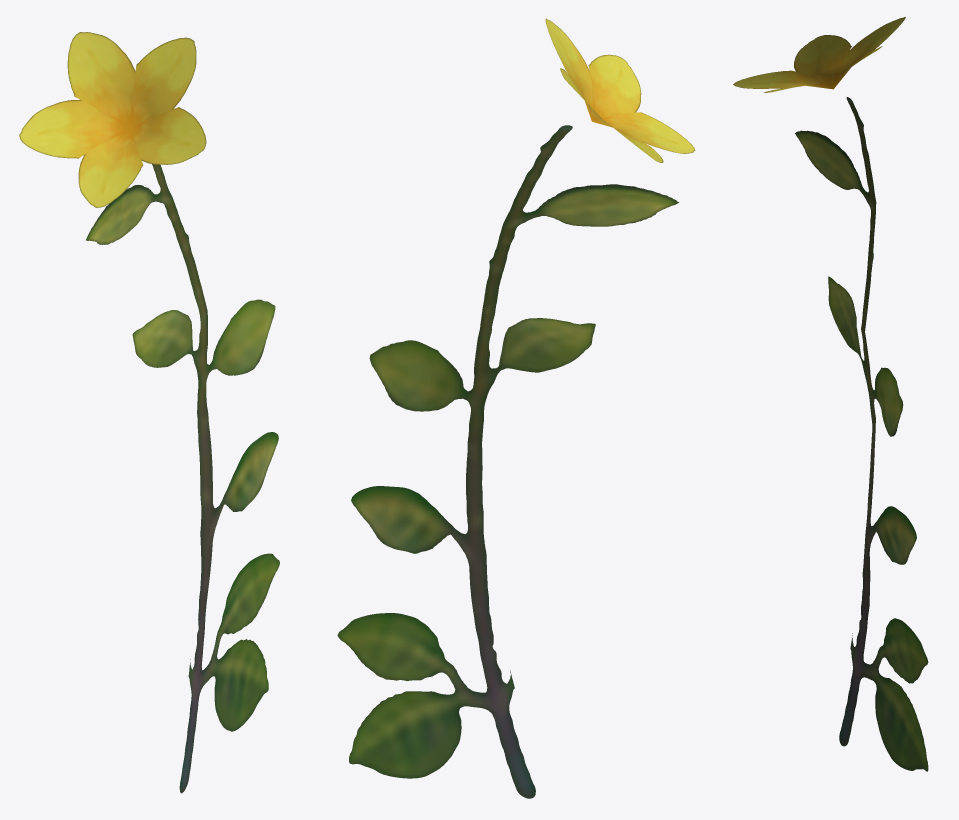
The model's file is sucai_19.FBX.
The picture shows the model from 3 angles, left to right: view 1: azimuth 30°, elevation 25°; view 2: azimuth 150°, elevation 25°; view 3: azimuth 270°, elevation 25°; orthographic projection. The views are drawn at different scales.
Visible parts, largest first — view 1: sucai_19; view 2: sucai_19; view 3: sucai_19.
Boxes of the visible parts, left/top/right/bottom form: sucai_19: left=19, top=32, right=279, bottom=793; sucai_19: left=337, top=18, right=695, bottom=798; sucai_19: left=733, top=17, right=928, bottom=771.
Bounding box in the file's own units: 35.94 × 86.11 × 23.3.
